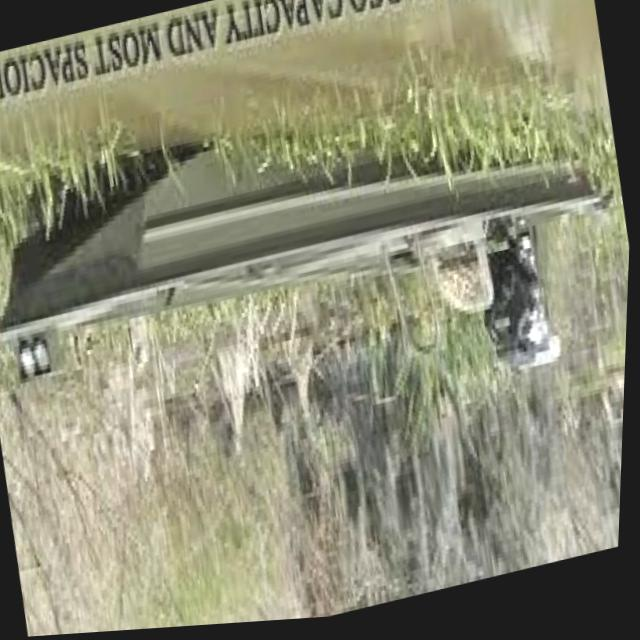ship2: (0, 148, 603, 379)
